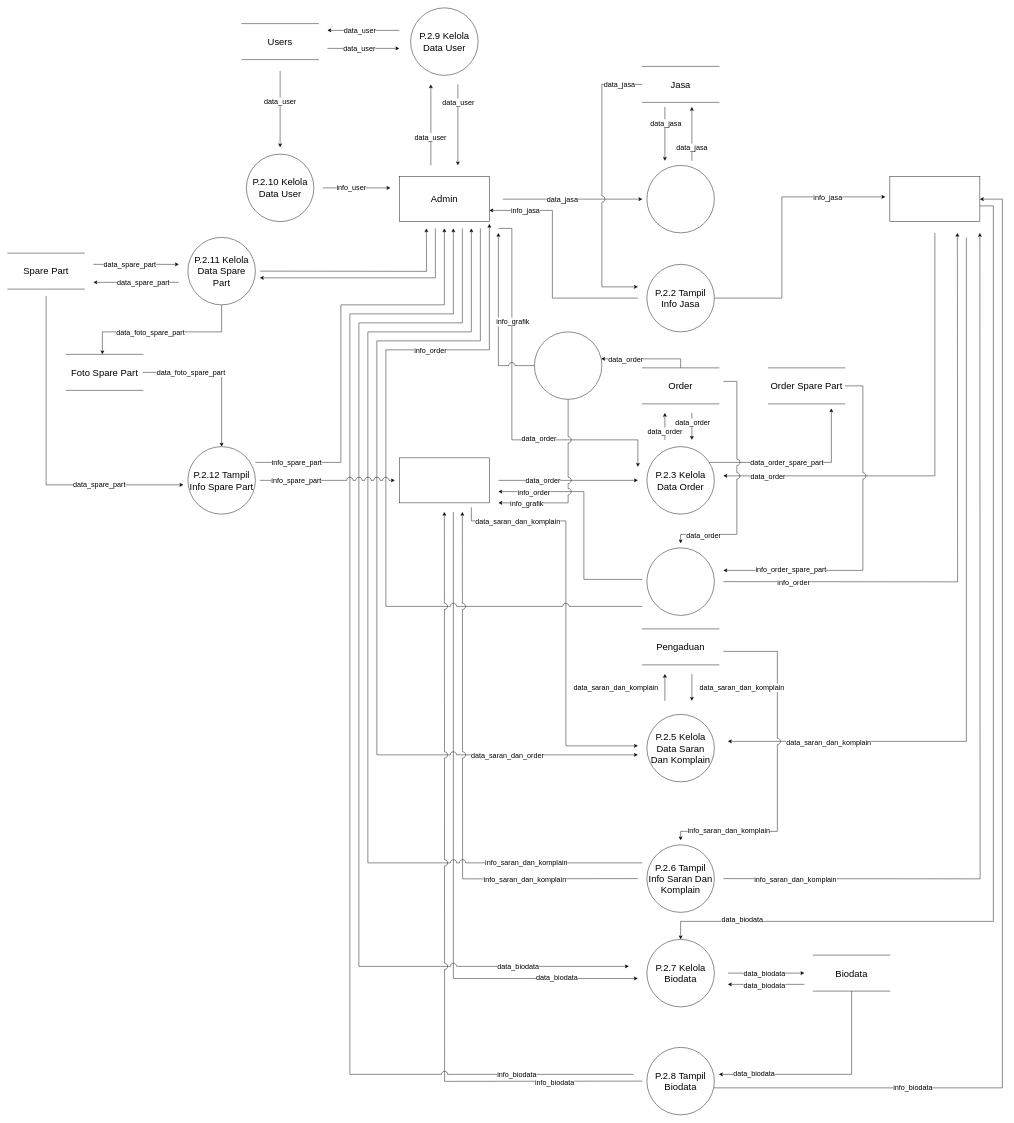
Some shapes in this 1014 by 1123 pixel diagram are drawn without their labels. Here are the shapes that lost their labels. From the top down, the centre of each, then its label:
At pixel 680 199: "P.2.1 Kelola Data Jasa".
At pixel 934 199: "User".
At pixel 568 365: "P.2.13 Tampil Info Grafik".
At pixel 444 480: "Teknisi".
At pixel 680 581: "P.2.4 Tampil Info Order".
